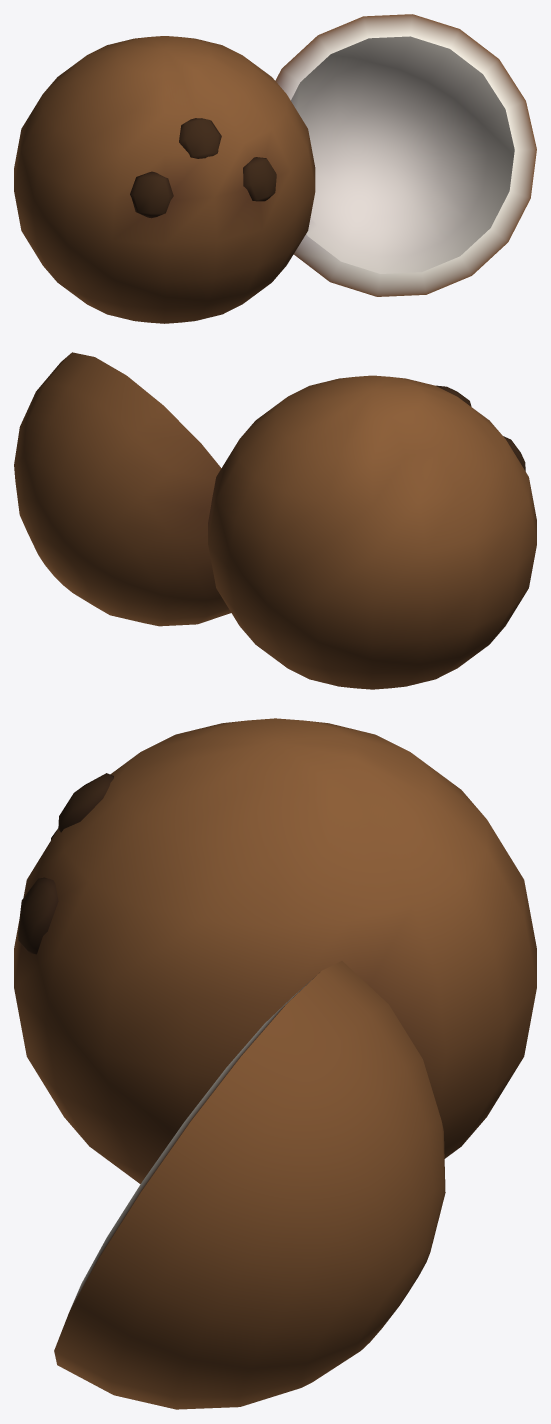
Rendered from coconut.glb.
The picture shows the model from 3 angles, top to bottom: view 1: azimuth 30°, elevation 25°; view 2: azimuth 150°, elevation 25°; view 3: azimuth 270°, elevation 25°; orthographic projection. The views are drawn at different scales.
Parts seen in each view (by area): view 1: coconut; view 2: coconut; view 3: coconut.
Boxes of the visible parts, x1,y1,x2,y2 form: coconut: (14,14,536,323); coconut: (14,352,536,689); coconut: (14,718,536,1409).
Bounding box in the file's own units: 0.3666 × 0.2035 × 0.2068.
